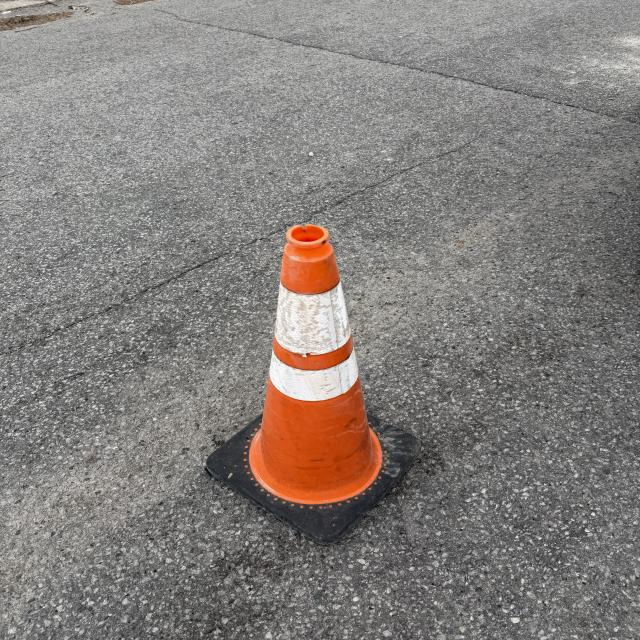Traffic Cone: (206, 223, 422, 546)
